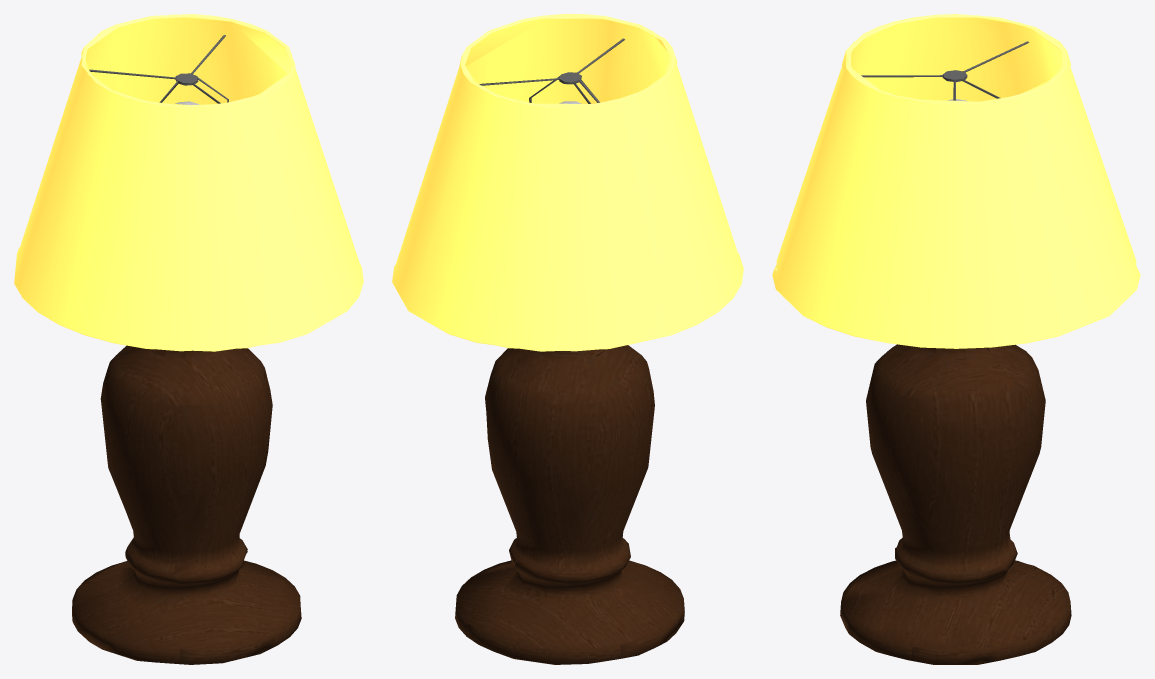
Rendered from table-lamp.glb.
3 renders of one model, left to right at view 1: azimuth 30°, elevation 25°; view 2: azimuth 150°, elevation 25°; view 3: azimuth 270°, elevation 25°, orthographic.
Visible parts, largest first — view 1: Object_4_YellowMetalGlow_0, Object_4_BodyWood_0, Object_4_GreyMetal_0; view 2: Object_4_YellowMetalGlow_0, Object_4_BodyWood_0, Object_4_GreyMetal_0; view 3: Object_4_YellowMetalGlow_0, Object_4_BodyWood_0, Object_4_GreyMetal_0.
Boxes of the visible parts, x1,y1,x2,y2 form: Object_4_YellowMetalGlow_0: (14,14,363,351); Object_4_BodyWood_0: (72,345,301,664); Object_4_GreyMetal_0: (89,35,228,103); Object_4_YellowMetalGlow_0: (392,14,743,351); Object_4_BodyWood_0: (455,345,684,664); Object_4_GreyMetal_0: (479,38,624,103); Object_4_YellowMetalGlow_0: (772,14,1140,348); Object_4_BodyWood_0: (840,344,1071,664); Object_4_GreyMetal_0: (861,41,1028,100).
Bounding box in the file's own units: 0.4815 × 0.8691 × 0.5087.
6 materials, 2 textured.
